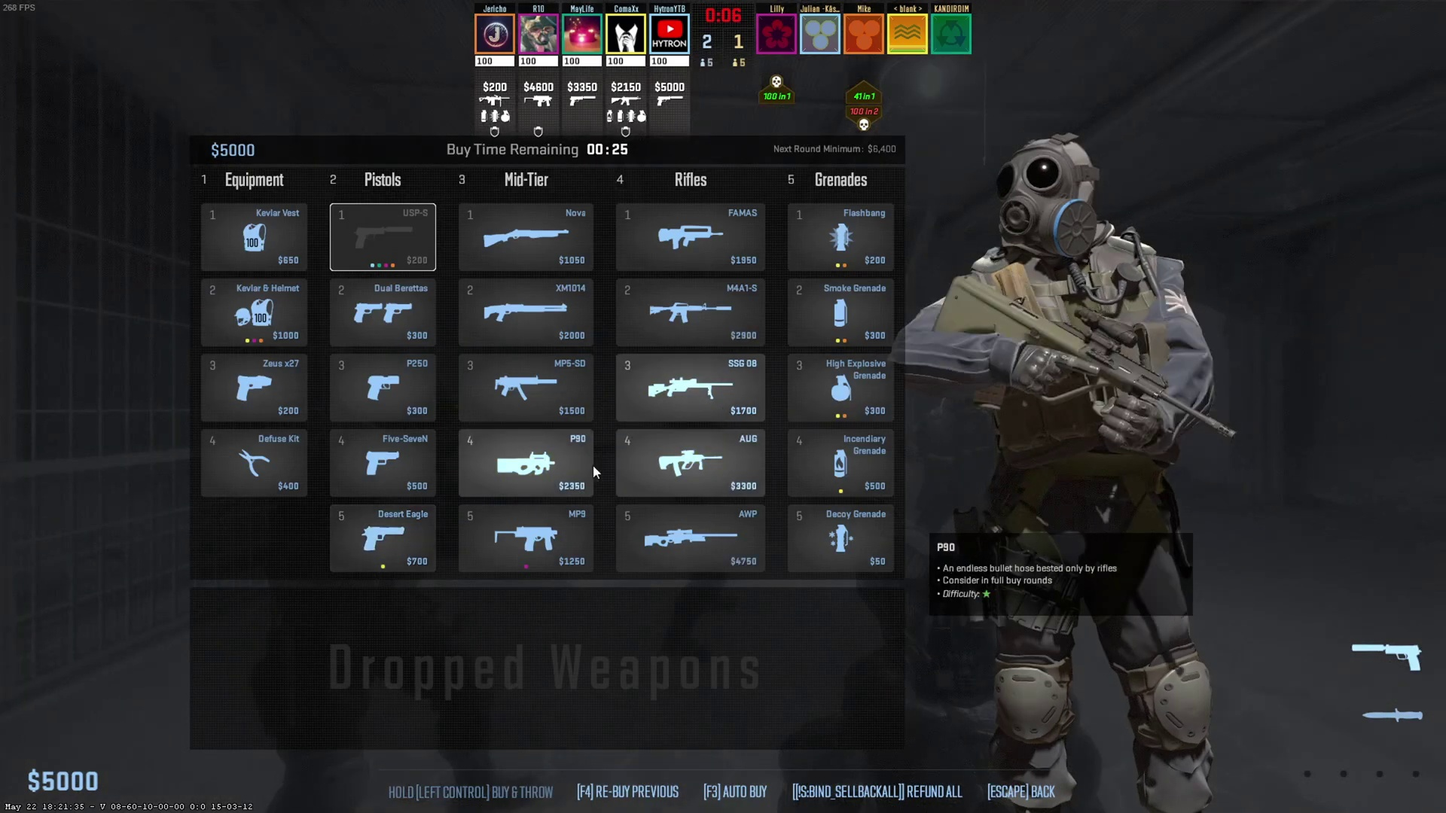CT: (962, 137, 1214, 810)
